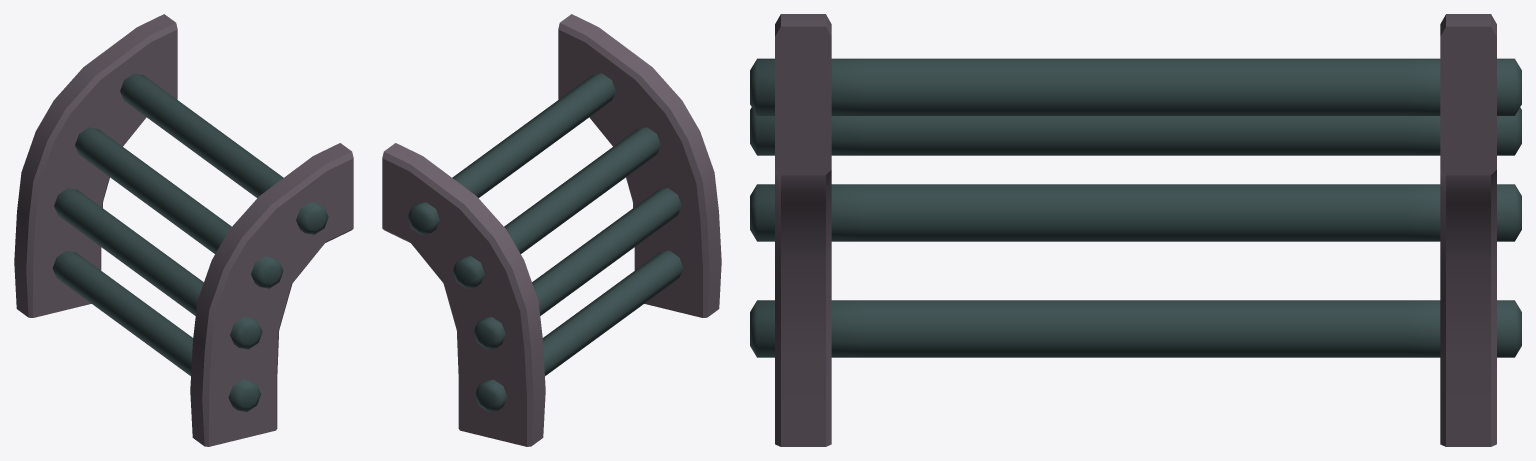
Rendered from GB_142_143_ladder_var01.glb.
3 views of the same model, side by side, from view 1: azimuth 30°, elevation 25°; view 2: azimuth 150°, elevation 25°; view 3: azimuth 270°, elevation 25° (orthographic). The views are drawn at different scales.
Visible parts, largest first — view 1: Railing.007; view 2: Railing.007; view 3: Railing.007.
Part boxes in pixels (x1,y1,x2,y2): Railing.007: (14,14,353,446); Railing.007: (382,14,721,446); Railing.007: (750,14,1521,446).
Bounding box in the file's own units: 0.4723 × 0.7793 × 1.11.
